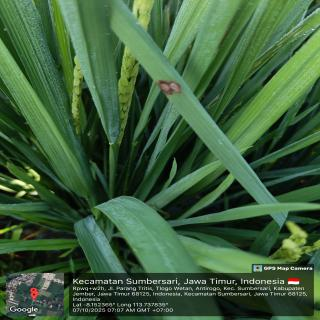Blast: (152, 77, 188, 102)
